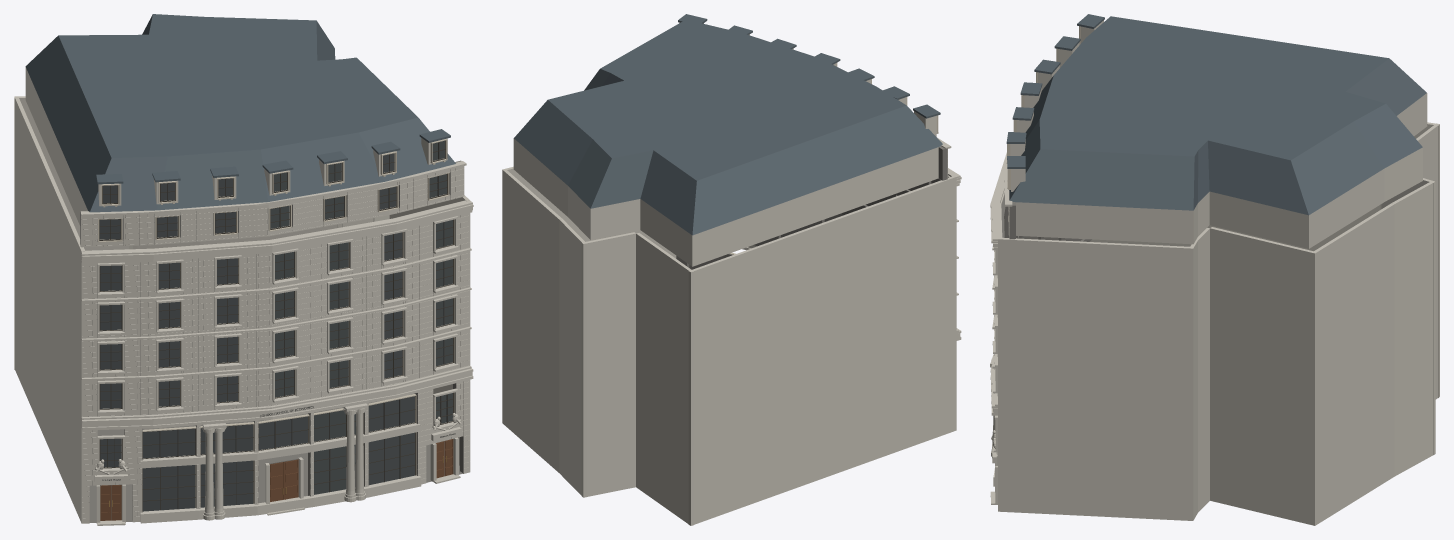
The model's file is clm-exterior-b84eeafceedd.glb.
3 renders of one model, left to right at view 1: azimuth 30°, elevation 25°; view 2: azimuth 150°, elevation 25°; view 3: azimuth 270°, elevation 25°, orthographic. The views are drawn at different scales.
Parts seen in each view (by area): view 1: CLM.001; view 2: CLM.001; view 3: CLM.001.
Part boxes in pixels (<box>): CLM.001: <box>14,14,473,525</box>; CLM.001: <box>502,14,961,525</box>; CLM.001: <box>990,14,1439,525</box>.
Size of the model in its own units: 33.04 by 29.19 by 34.19.
